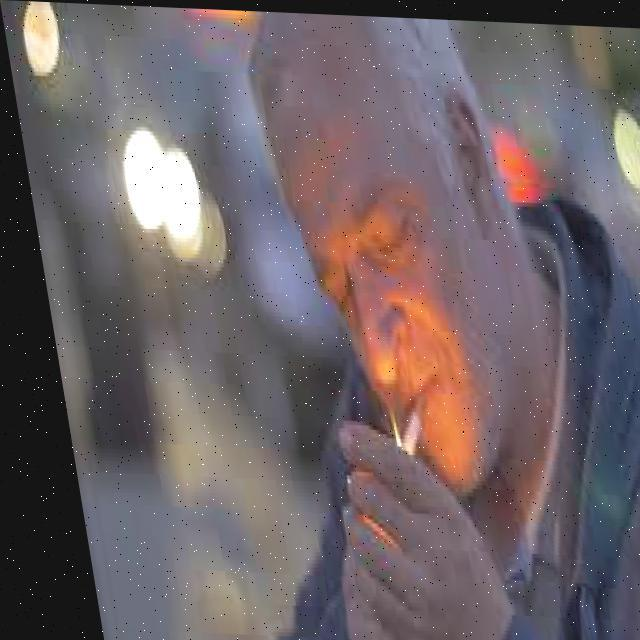Fire: (360, 399, 394, 452)
